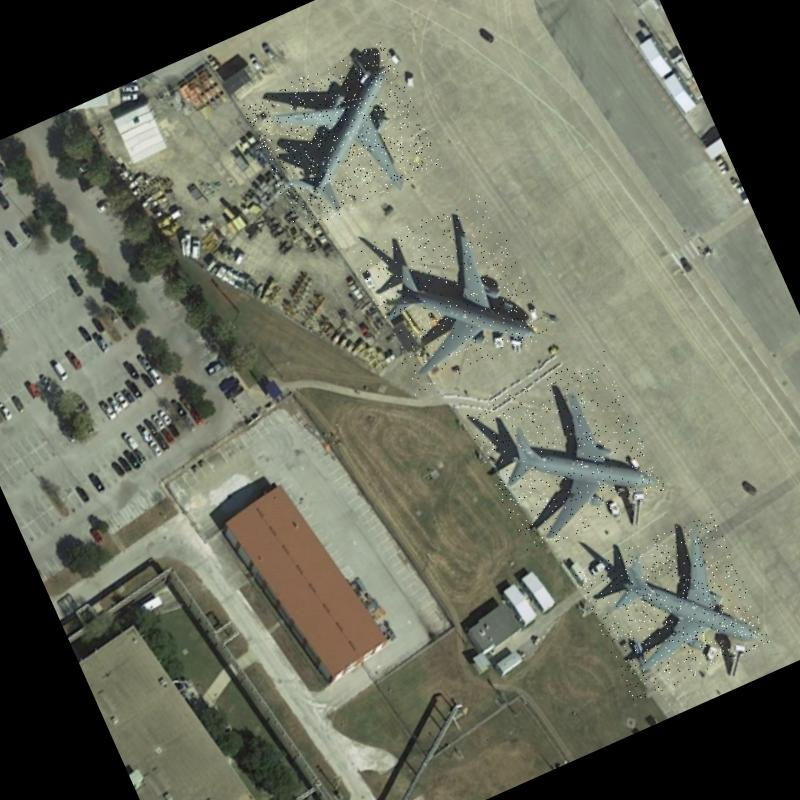A18: (463, 350, 668, 556), (350, 191, 550, 396), (241, 40, 442, 233), (574, 511, 771, 704)
